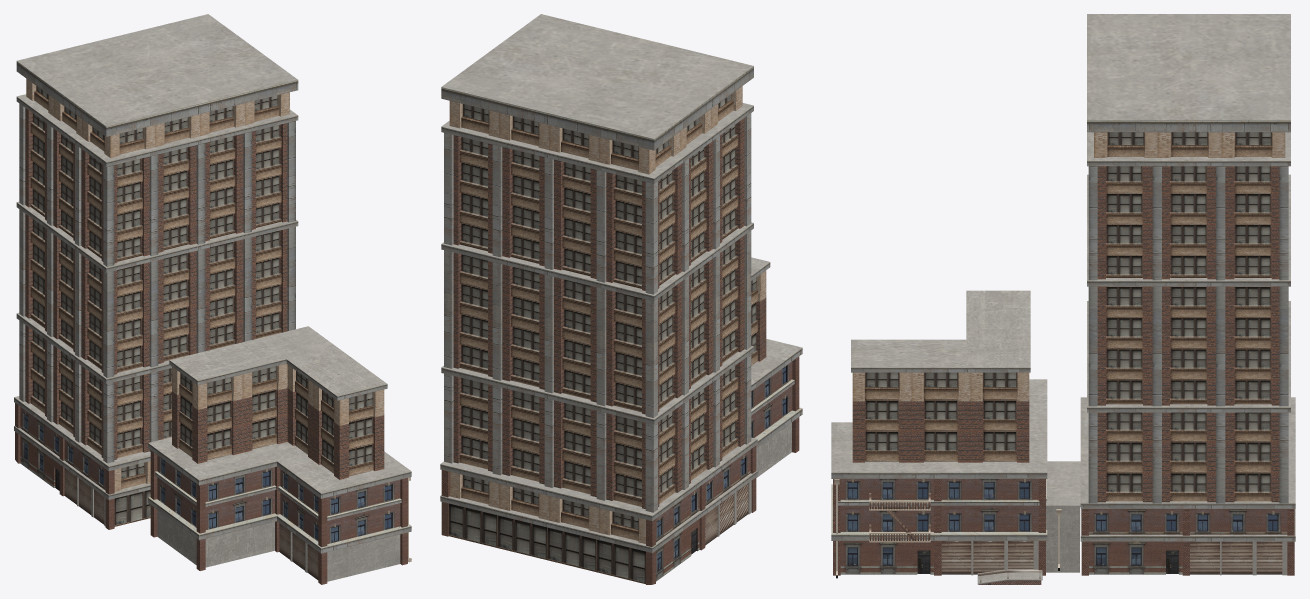
Rendered from Buildings.fbx.
The picture shows the model from 3 angles, left to right: view 1: azimuth 30°, elevation 25°; view 2: azimuth 150°, elevation 25°; view 3: azimuth 270°, elevation 25°; orthographic projection. The views are drawn at different scales.
Parts seen in each view (by area): view 1: Atlas.016, Atlas.002, Cube.007, Cube.002, Atlas.014, Atlas.006, Cube.005, Cube.004, Atlas.017, Cube, Cube.003, Atlas.011 (+2 smaller); view 2: Atlas.016, Cube.007, Cube.002, Atlas.002, Atlas.011, Atlas.014, Atlas.015, Cube, Cube.005, Cube.004, Cube.003, Cube.001 (+6 smaller); view 3: Atlas.002, Atlas.016, Cube.007, Cube.002, Atlas.005, Atlas.018, Cube, Cube.005, Cube.004, Cube.003, Cube.001, Atlas.001 (+2 smaller).
Part boxes in pixels (x1=…): Atlas.016: x1=25, y1=108, x2=287, y2=459; Atlas.002: x1=148, y1=326, x2=411, y2=584; Cube.007: x1=16, y1=14, x2=298, y2=136; Cube.002: x1=19, y1=103, x2=295, y2=463; Atlas.014: x1=15, y1=403, x2=114, y2=529; Atlas.006: x1=110, y1=92, x2=289, y2=157; Cube.005: x1=16, y1=94, x2=298, y2=166; Cube.004: x1=16, y1=201, x2=298, y2=272; Atlas.017: x1=26, y1=78, x2=110, y2=157; Cube: x1=14, y1=396, x2=150, y2=471; Cube.003: x1=16, y1=313, x2=171, y2=383; Atlas.011: x1=114, y1=490, x2=150, y2=526; Atlas.016: x1=453, y1=118, x2=744, y2=508; Cube.007: x1=441, y1=14, x2=753, y2=150; Cube.002: x1=444, y1=113, x2=751, y2=512; Atlas.002: x1=751, y1=257, x2=802, y2=477; Atlas.011: x1=448, y1=503, x2=645, y2=584; Atlas.014: x1=646, y1=445, x2=756, y2=584; Atlas.015: x1=449, y1=101, x2=648, y2=174; Cube: x1=440, y1=437, x2=757, y2=521; Cube.005: x1=441, y1=103, x2=753, y2=183; Cube.004: x1=441, y1=222, x2=753, y2=301; Cube.003: x1=441, y1=346, x2=753, y2=424; Cube.001: x1=440, y1=470, x2=757, y2=552; Atlas.002: x1=831, y1=290, x2=1080, y2=578; Atlas.016: x1=1097, y1=166, x2=1279, y2=502; Cube.007: x1=1087, y1=14, x2=1290, y2=132; Cube.002: x1=1088, y1=166, x2=1288, y2=503; Atlas.005: x1=1081, y1=509, x2=1294, y2=575; Atlas.018: x1=1094, y1=132, x2=1285, y2=157; Cube: x1=1080, y1=397, x2=1295, y2=508; Cube.005: x1=1087, y1=132, x2=1290, y2=166; Cube.004: x1=1087, y1=174, x2=1290, y2=286; Cube.003: x1=1087, y1=301, x2=1290, y2=412; Cube.001: x1=1080, y1=509, x2=1295, y2=541; Atlas.001: x1=977, y1=569, x2=1042, y2=584.
Size of the model in its own units: 173 by 322 by 296.
Materials: 1 (1 with a texture image).
